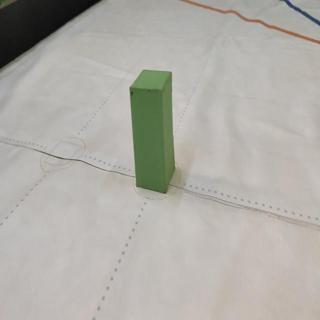greenbox: (129, 69, 176, 195)
